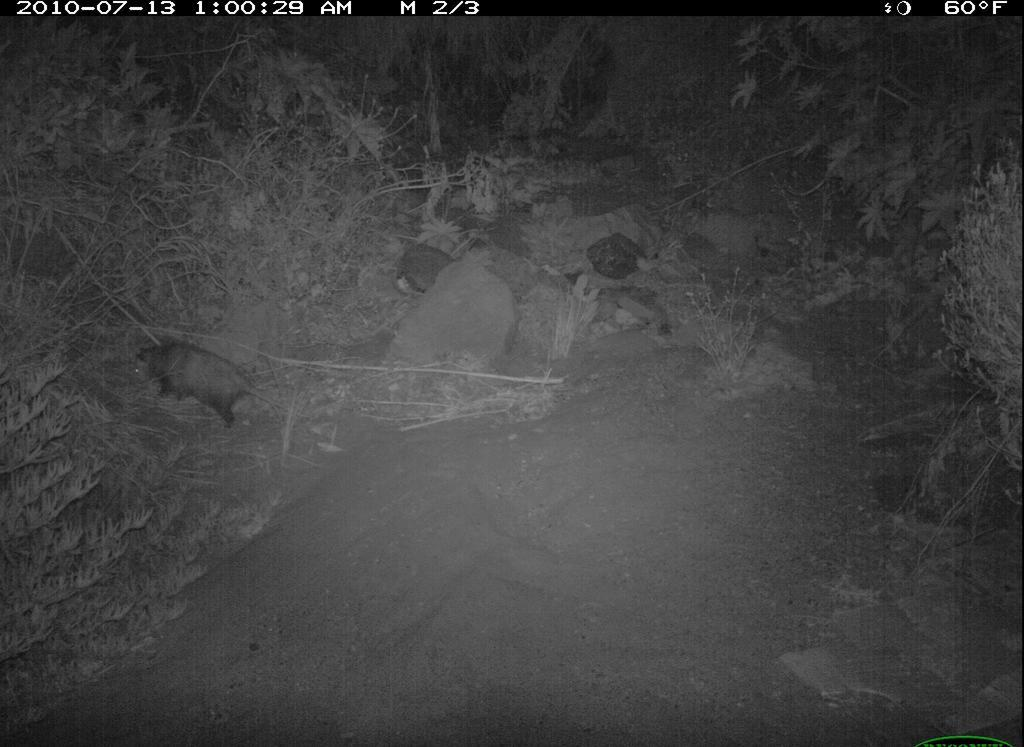opossum: (126, 338, 291, 438)
